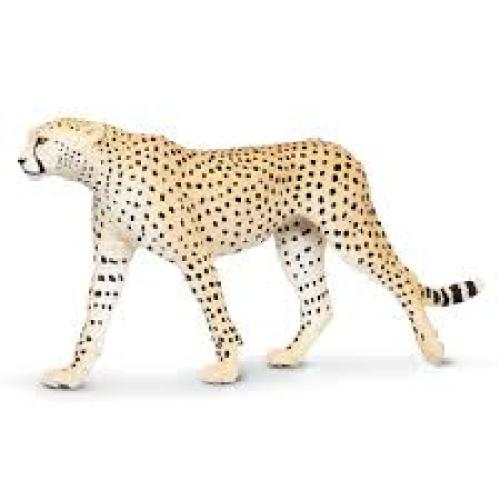cheetah-endangered: (12, 117, 486, 394)
